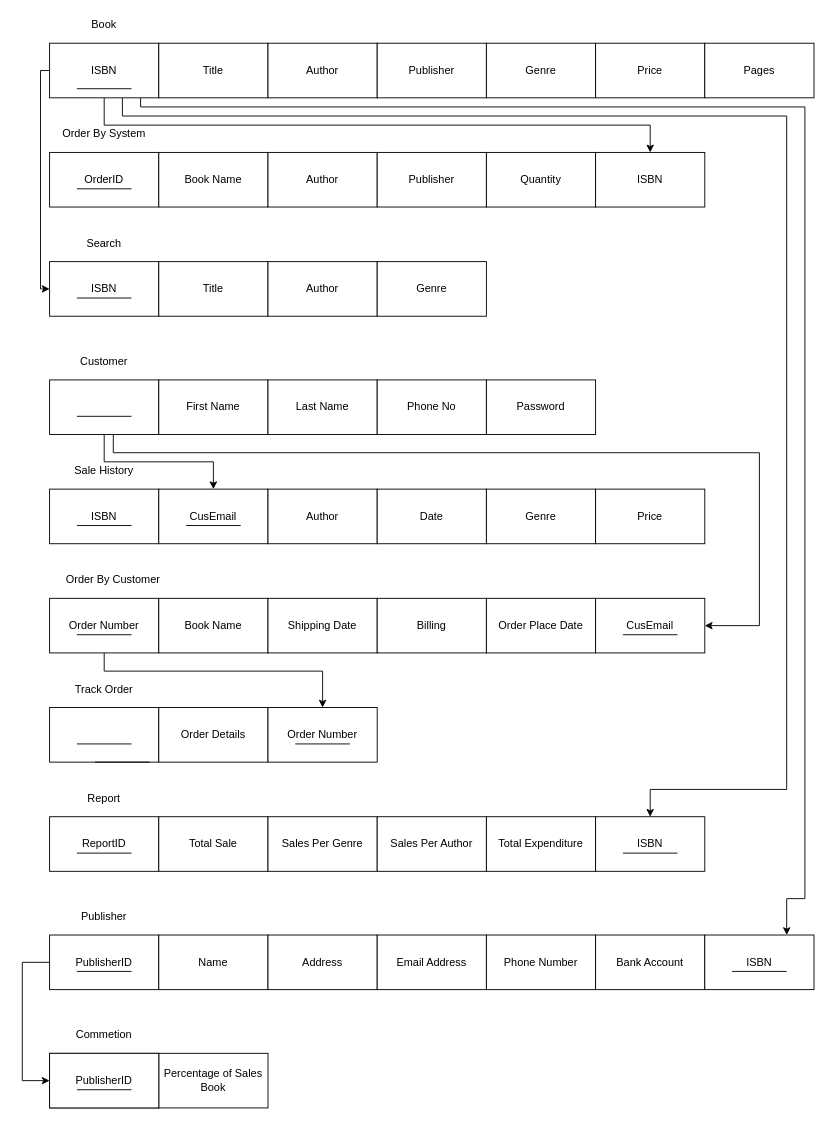
Image size: 830x1124. Some labels were removed from this diagram. The shapes that lost their labels are listed below. From the top down, each one's centre as x and y in pixels, then its label:
At (x=104, y=407): "Email".
At (x=104, y=734): "TrackerID".
